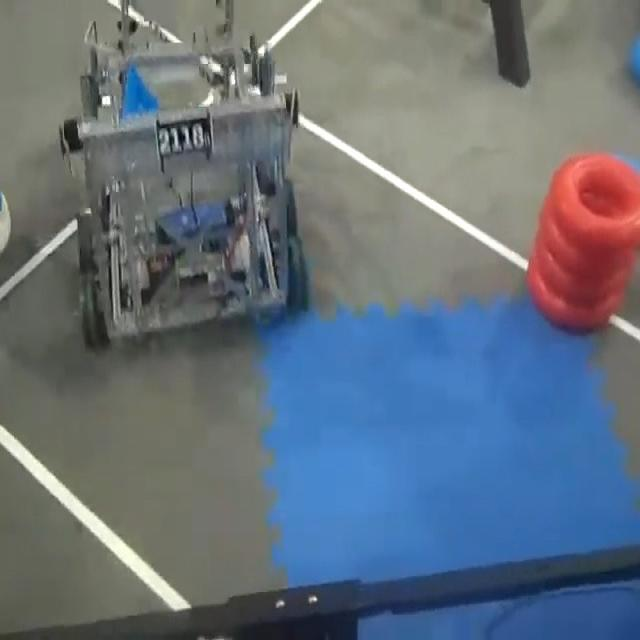Red-Ring: (546, 153, 640, 248), (539, 212, 634, 278), (530, 243, 629, 306), (529, 269, 615, 329)
